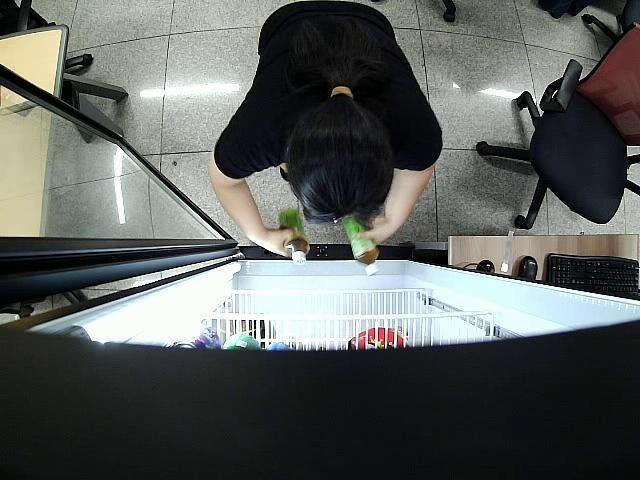19_17cha: (342, 212, 378, 276), (274, 208, 312, 266)
